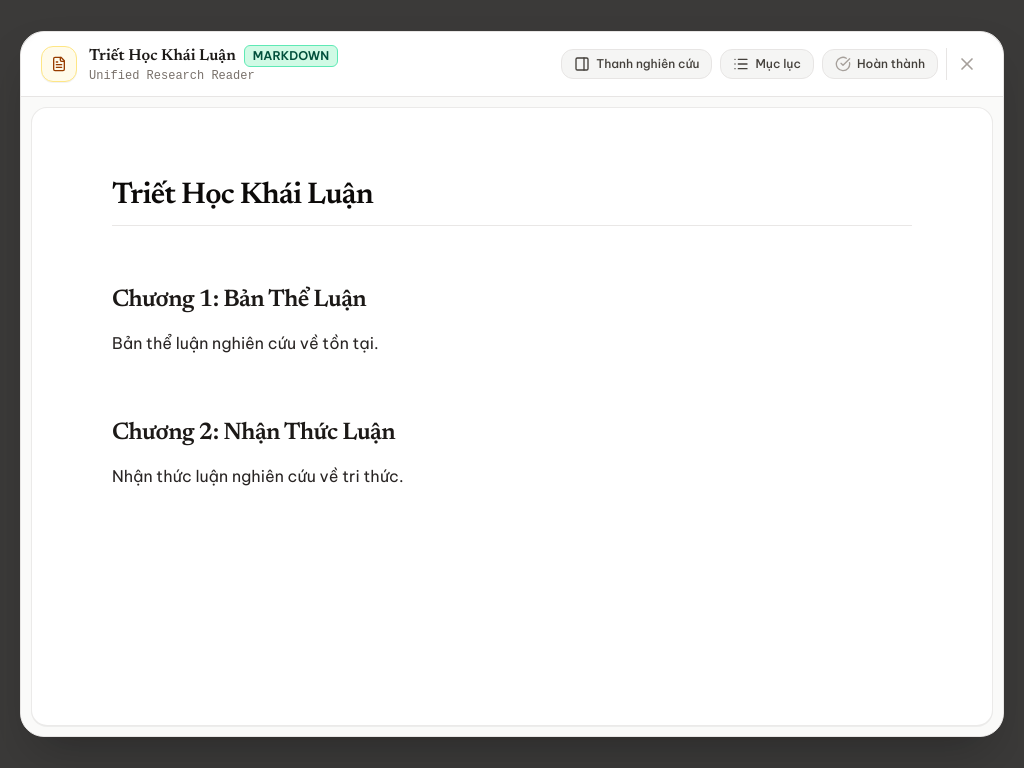
Phase R3B: Reader Sidebar In-Reader Note Citation Jump › 1. Same-Document Note Citation Jump › 1.2. clicking a same-document archive citation without locator is a safe no-op and keeps reader open
What coordinates should you click on to do the following:
click the button with test id "reader-toggle-sidebar-btn"
I would click on:
 (637, 64)
Its box is x1=561 y1=49 x2=712 y2=79.
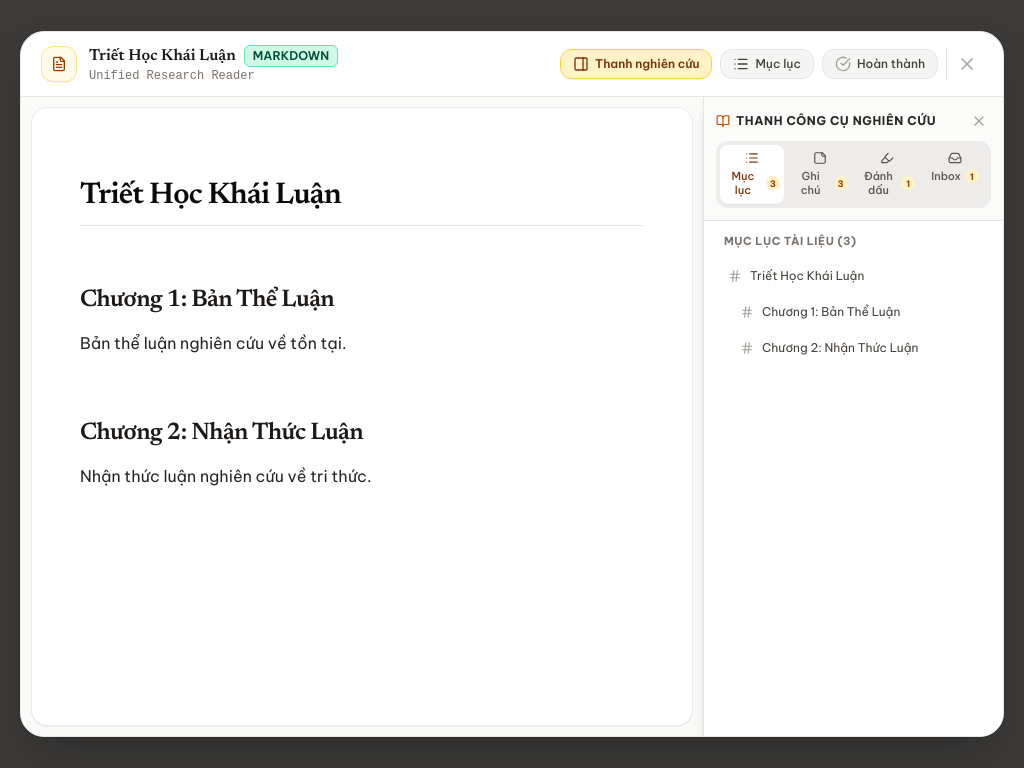
What coordinates should you click on to do the following:
click the tab with test id "sidebar-tab-notes"
I would click on:
 (820, 174)
Its box is x1=788 y1=145 x2=852 y2=204.
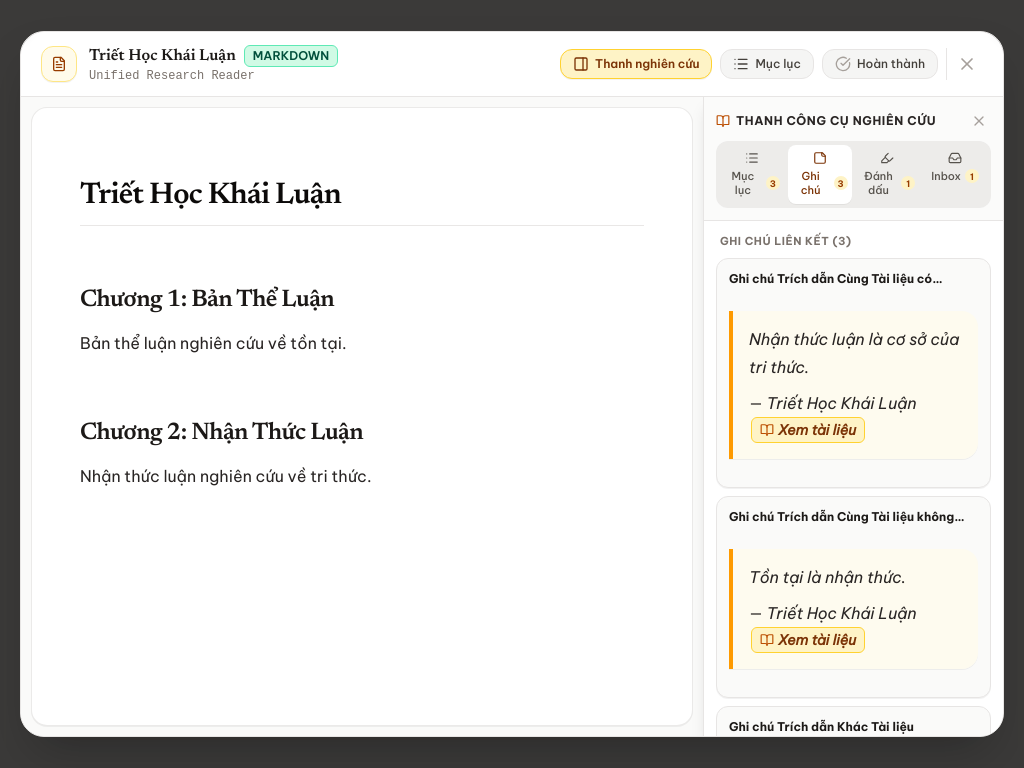
Expected: the link "Xem tài liệu" below "Tồn tại là nhận thức." is shown
What coordinates should you click on to do the following:
click the link "Xem tài liệu" below "Tồn tại là nhận thức."
I would click on:
 (808, 640)
Its box is x1=751 y1=626 x2=865 y2=652.
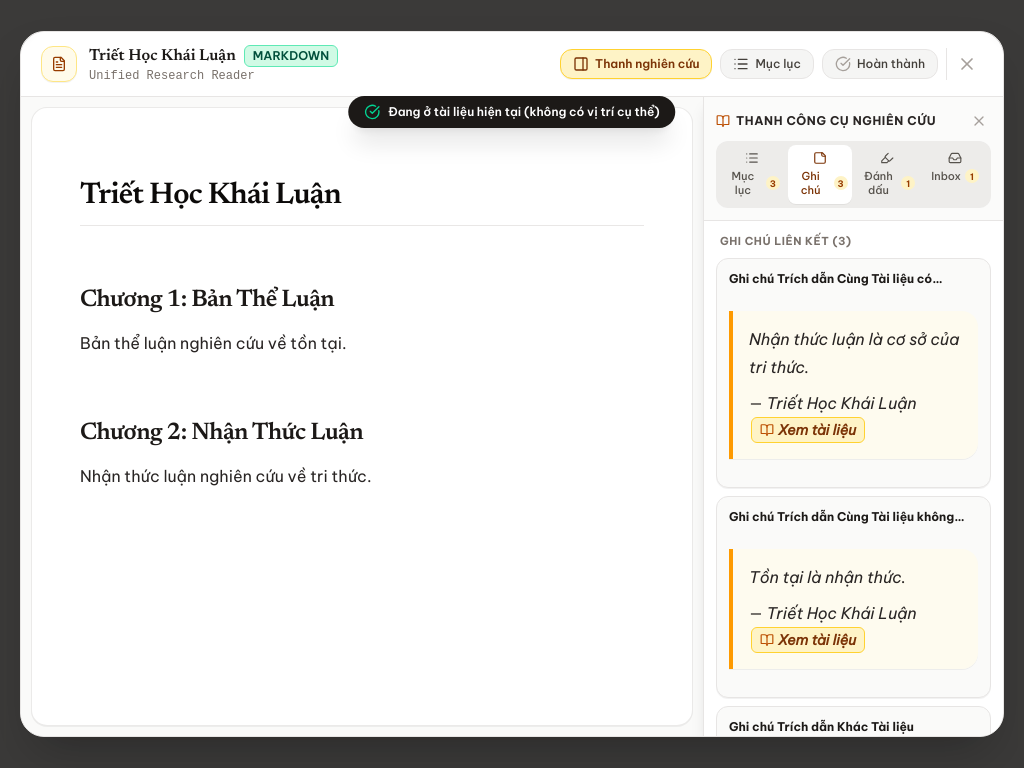
Expected: the text "Đang ở tài liệu hiện tại (không có vị trí cụ thể)" is shown, x1=388 y1=104 x2=660 y2=120
